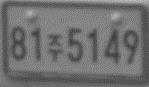1: (86, 27, 99, 64), (30, 25, 42, 62)
4: (102, 26, 123, 65)
5: (65, 26, 85, 63)
8: (10, 25, 27, 60)
9: (121, 28, 140, 65)
주: (45, 31, 64, 63)
